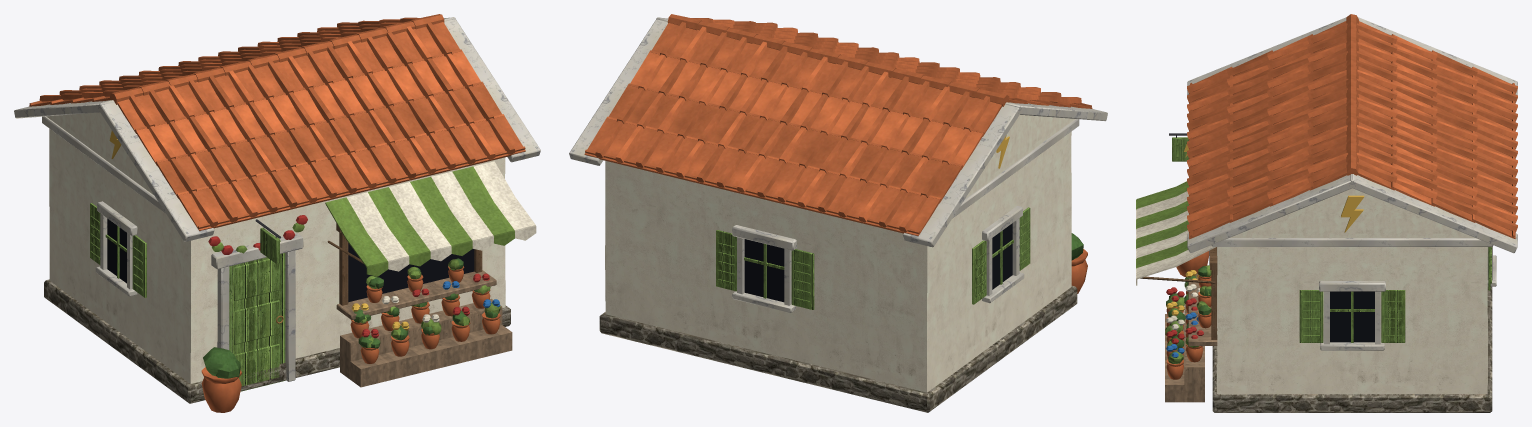
File: biz_flower-shop_t1.glb
The picture shows the model from 3 angles, left to right: view 1: azimuth 30°, elevation 25°; view 2: azimuth 150°, elevation 25°; view 3: azimuth 270°, elevation 25°; orthographic projection. The views are drawn at different scales.
Parts seen in each view (by area): view 1: cream, terracotta0, terracotta1, terracotta2, marble, olive_wood, wood, cloth_cream, cloth_olive, stone_dark, terracotta, dark (+4 smaller); view 2: cream, terracotta0, terracotta1, terracotta2, marble, stone_dark, olive_wood, dark, terracotta; view 3: cream, terracotta0, terracotta1, terracotta2, marble, stone_dark, olive_wood, cloth_cream, wood, cloth_olive, dark, terracotta (+5 smaller).
Boxes of the visible parts, x1,y1,x2,y2 form: cream: [46, 112, 505, 383]; terracotta0: [29, 17, 525, 230]; terracotta1: [29, 14, 525, 229]; terracotta2: [50, 19, 504, 217]; marble: [14, 17, 540, 381]; olive_wood: [90, 203, 285, 391]; wood: [336, 270, 512, 387]; cloth_cream: [346, 161, 536, 322]; cloth_olive: [325, 166, 514, 276]; stone_dark: [44, 279, 510, 403]; terracotta: [201, 266, 500, 412]; dark: [107, 218, 474, 302]; cream: [605, 115, 1074, 392]; terracotta0: [584, 18, 1092, 235]; terracotta1: [585, 14, 1091, 234]; terracotta2: [606, 19, 1069, 222]; marble: [569, 17, 1107, 312]; stone_dark: [599, 285, 1077, 412]; olive_wood: [716, 207, 1030, 309]; dark: [744, 223, 1012, 302]; terracotta: [1071, 249, 1087, 293]; cream: [1217, 188, 1487, 394]; terracotta0: [1187, 21, 1517, 239]; terracotta1: [1187, 14, 1517, 238]; terracotta2: [1187, 35, 1517, 222]; marble: [1187, 17, 1517, 350]; stone_dark: [1212, 286, 1492, 412]; olive_wood: [1172, 137, 1491, 342]; cloth_cream: [1136, 191, 1215, 330]; wood: [1165, 273, 1217, 402]; cloth_olive: [1136, 181, 1188, 268]; dark: [1330, 291, 1374, 342]; terracotta: [1166, 251, 1211, 379].
Bounding box in the file's own units: 6.1 × 4.25 × 5.93.
Materials: 21 (19 with a texture image).
